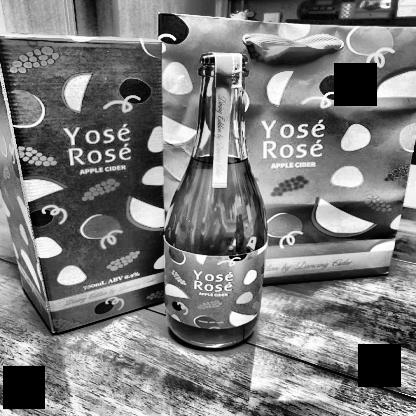yoserose: (169, 256, 258, 322)
